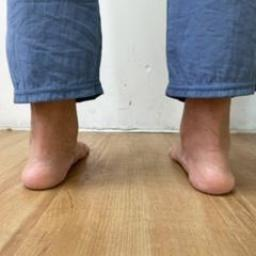Back View -Both Feet-: (8, 81, 250, 213)
